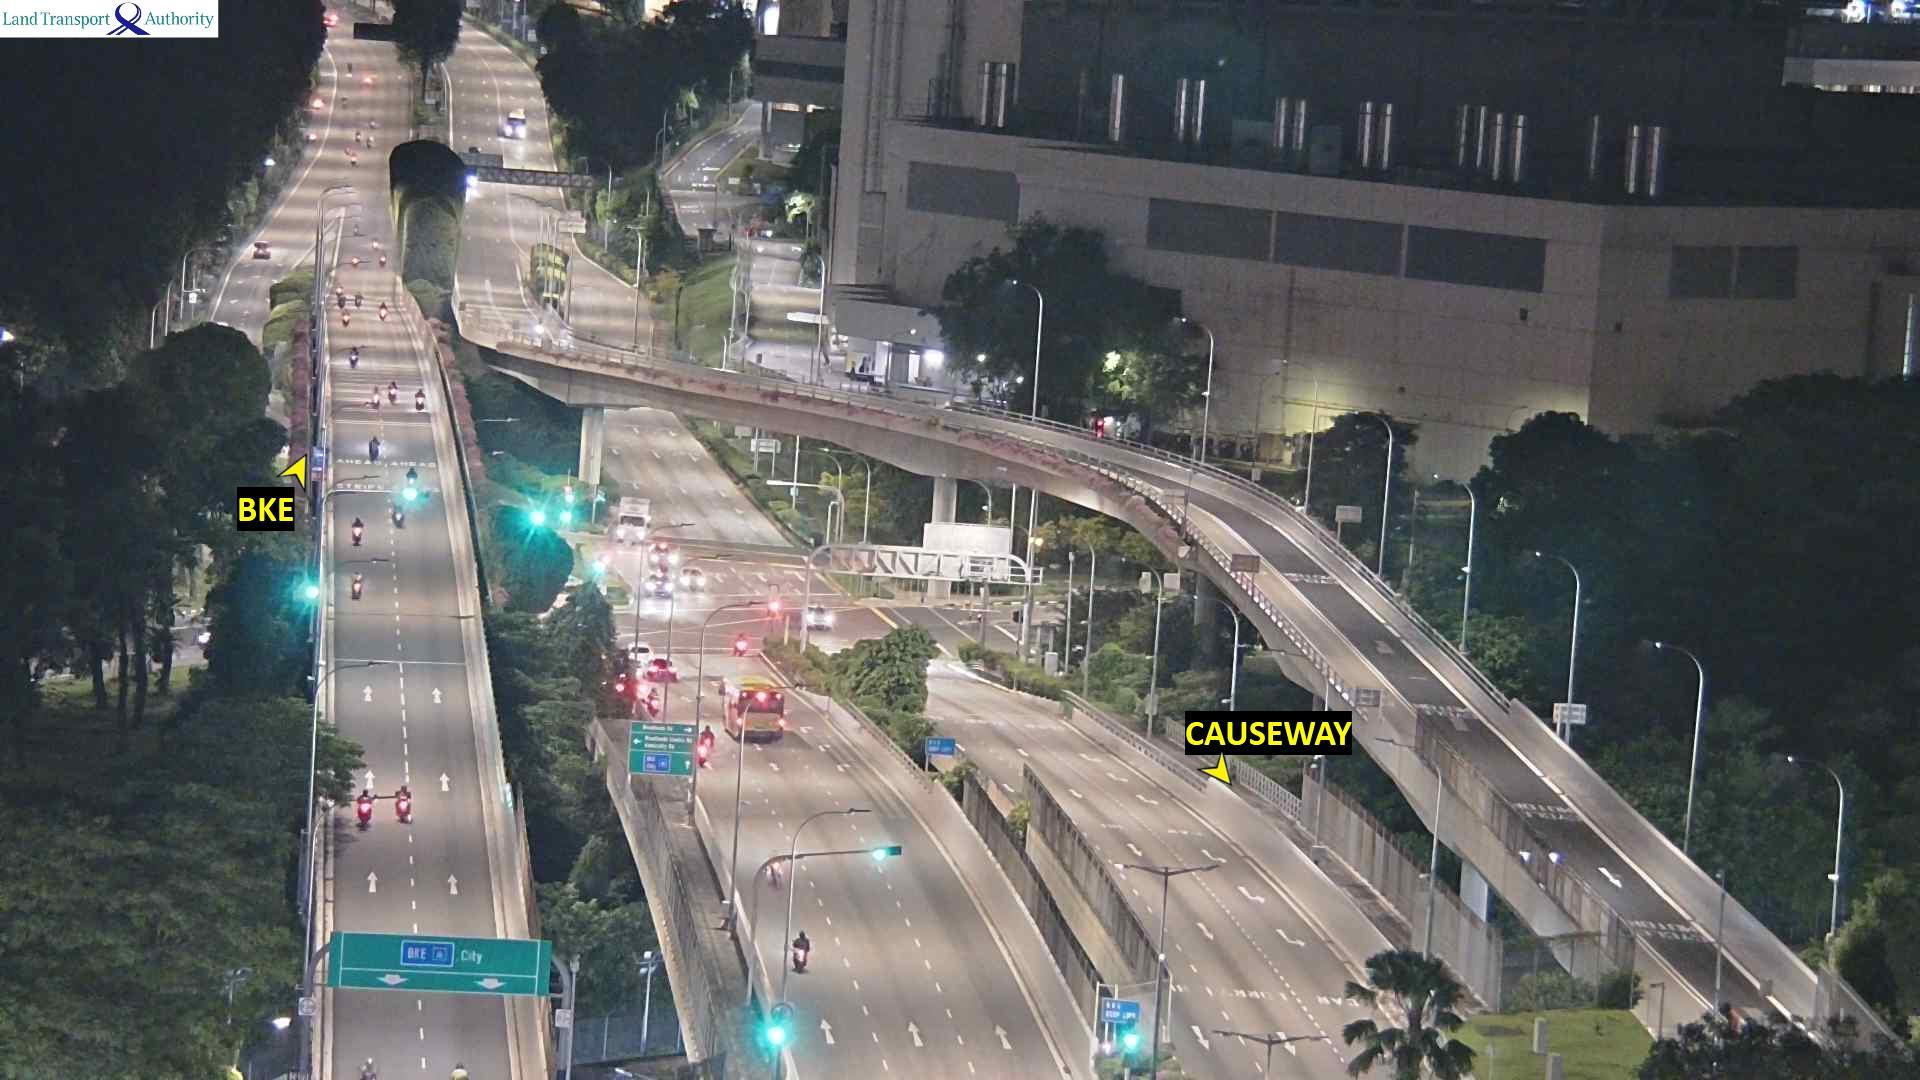vehicle-causeway-johor: (807, 605, 830, 628)
vehicle-causeway-singapore: (723, 674, 783, 743), (628, 646, 663, 675), (730, 638, 759, 661), (793, 930, 808, 971), (646, 662, 670, 683), (398, 791, 415, 811), (701, 725, 714, 751), (352, 519, 364, 545), (447, 1066, 469, 1080), (363, 811, 379, 830), (362, 1057, 374, 1078), (648, 688, 658, 713), (351, 577, 363, 596), (393, 380, 402, 400), (408, 467, 416, 489), (349, 349, 357, 369), (370, 439, 377, 461), (396, 512, 404, 531), (372, 385, 379, 403), (379, 301, 386, 319), (419, 396, 426, 412), (341, 295, 349, 309), (345, 258, 355, 268), (343, 312, 349, 327), (356, 293, 361, 305)
